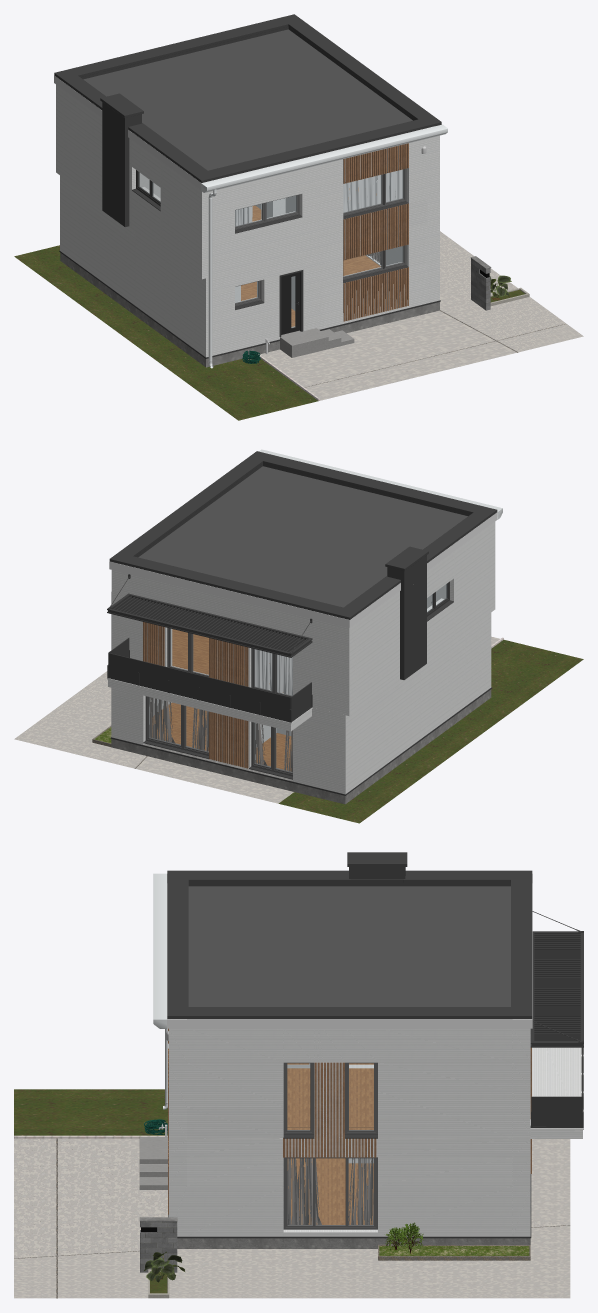
Rendered from house01-light.glb.
3 views of the same model, one above another, from view 1: azimuth 30°, elevation 25°; view 2: azimuth 150°, elevation 25°; view 3: azimuth 270°, elevation 25° (orthographic). The views are drawn at different scales.
Parts seen in each view (by area): view 1: house, roof, concreteFloor, garden, base, house.001, Curtain01.001, door, frontdoorStair, frontBlock, Cylinder.004; view 2: house, roof, garden, concreteFloor, base, Curtain02.001, Curtain01.003, house.001, Curtain02.002; view 3: house, roof, concreteFloor, garden, base, Curtain02, flowerGarden, house.001, frontBlock, frontdoorStair, calathea Leaves.
Part boxes in pixels (x1,y1,x2,y2): house: [54, 24, 441, 357]; roof: [54, 14, 441, 182]; concreteFloor: [260, 231, 583, 400]; garden: [14, 245, 318, 420]; base: [59, 250, 440, 367]; house.001: [201, 124, 447, 192]; Curtain01.001: [343, 169, 402, 212]; door: [279, 270, 303, 336]; frontdoorStair: [280, 326, 354, 357]; frontBlock: [470, 256, 491, 310]; Cylinder.004: [208, 189, 216, 368]; house: [107, 461, 497, 794]; roof: [109, 451, 497, 619]; garden: [278, 640, 583, 823]; concreteFloor: [14, 636, 499, 803]; base: [110, 687, 491, 804]; Curtain02.001: [149, 697, 208, 751]; Curtain01.003: [255, 649, 292, 695]; house.001: [259, 449, 502, 519]; Curtain02.002: [255, 723, 292, 772]; house: [167, 852, 583, 1236]; roof: [167, 870, 532, 1018]; concreteFloor: [14, 1138, 570, 1298]; garden: [14, 1089, 167, 1135]; base: [168, 1174, 531, 1248]; Curtain02: [287, 1158, 373, 1224]; flowerGarden: [378, 1244, 530, 1260]; house.001: [153, 873, 166, 1028]; frontBlock: [139, 1217, 177, 1272]; frontdoorStair: [139, 1137, 167, 1189]; calathea Leaves: [144, 1251, 184, 1282].
Size of the model in its own units: 10.73 by 6.01 by 12.37.
36 materials, 25 textured.
